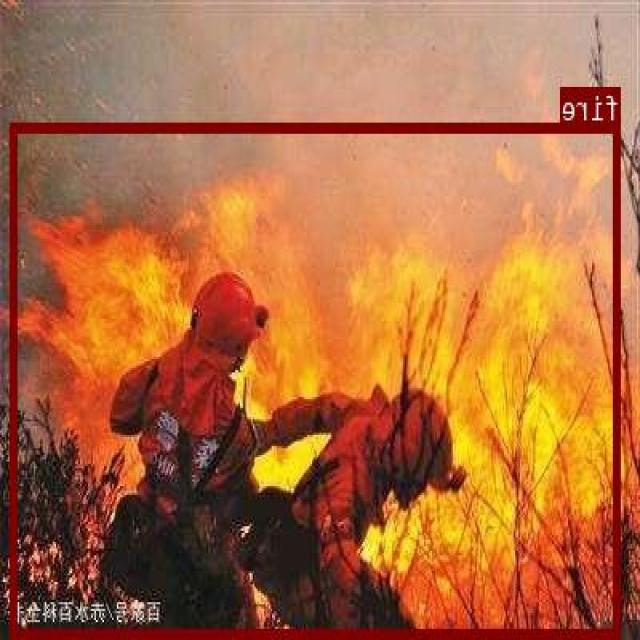fire: (13, 121, 621, 636)
